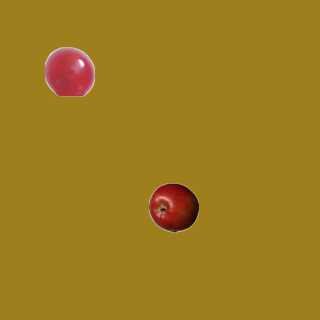Apple Braeburn: (148, 182, 198, 232)
Redcurrant: (44, 46, 94, 96)
